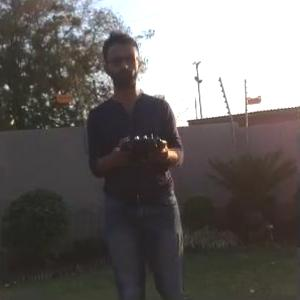follow: (85, 25, 194, 299)
